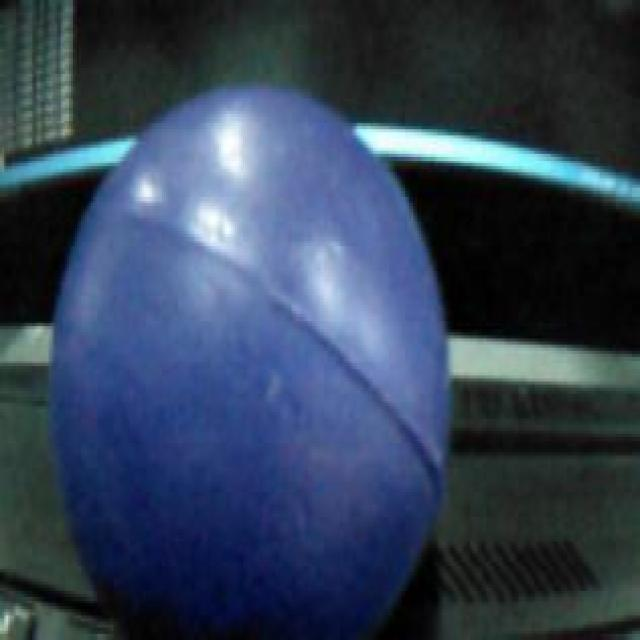BallPurple: (48, 77, 450, 640)
